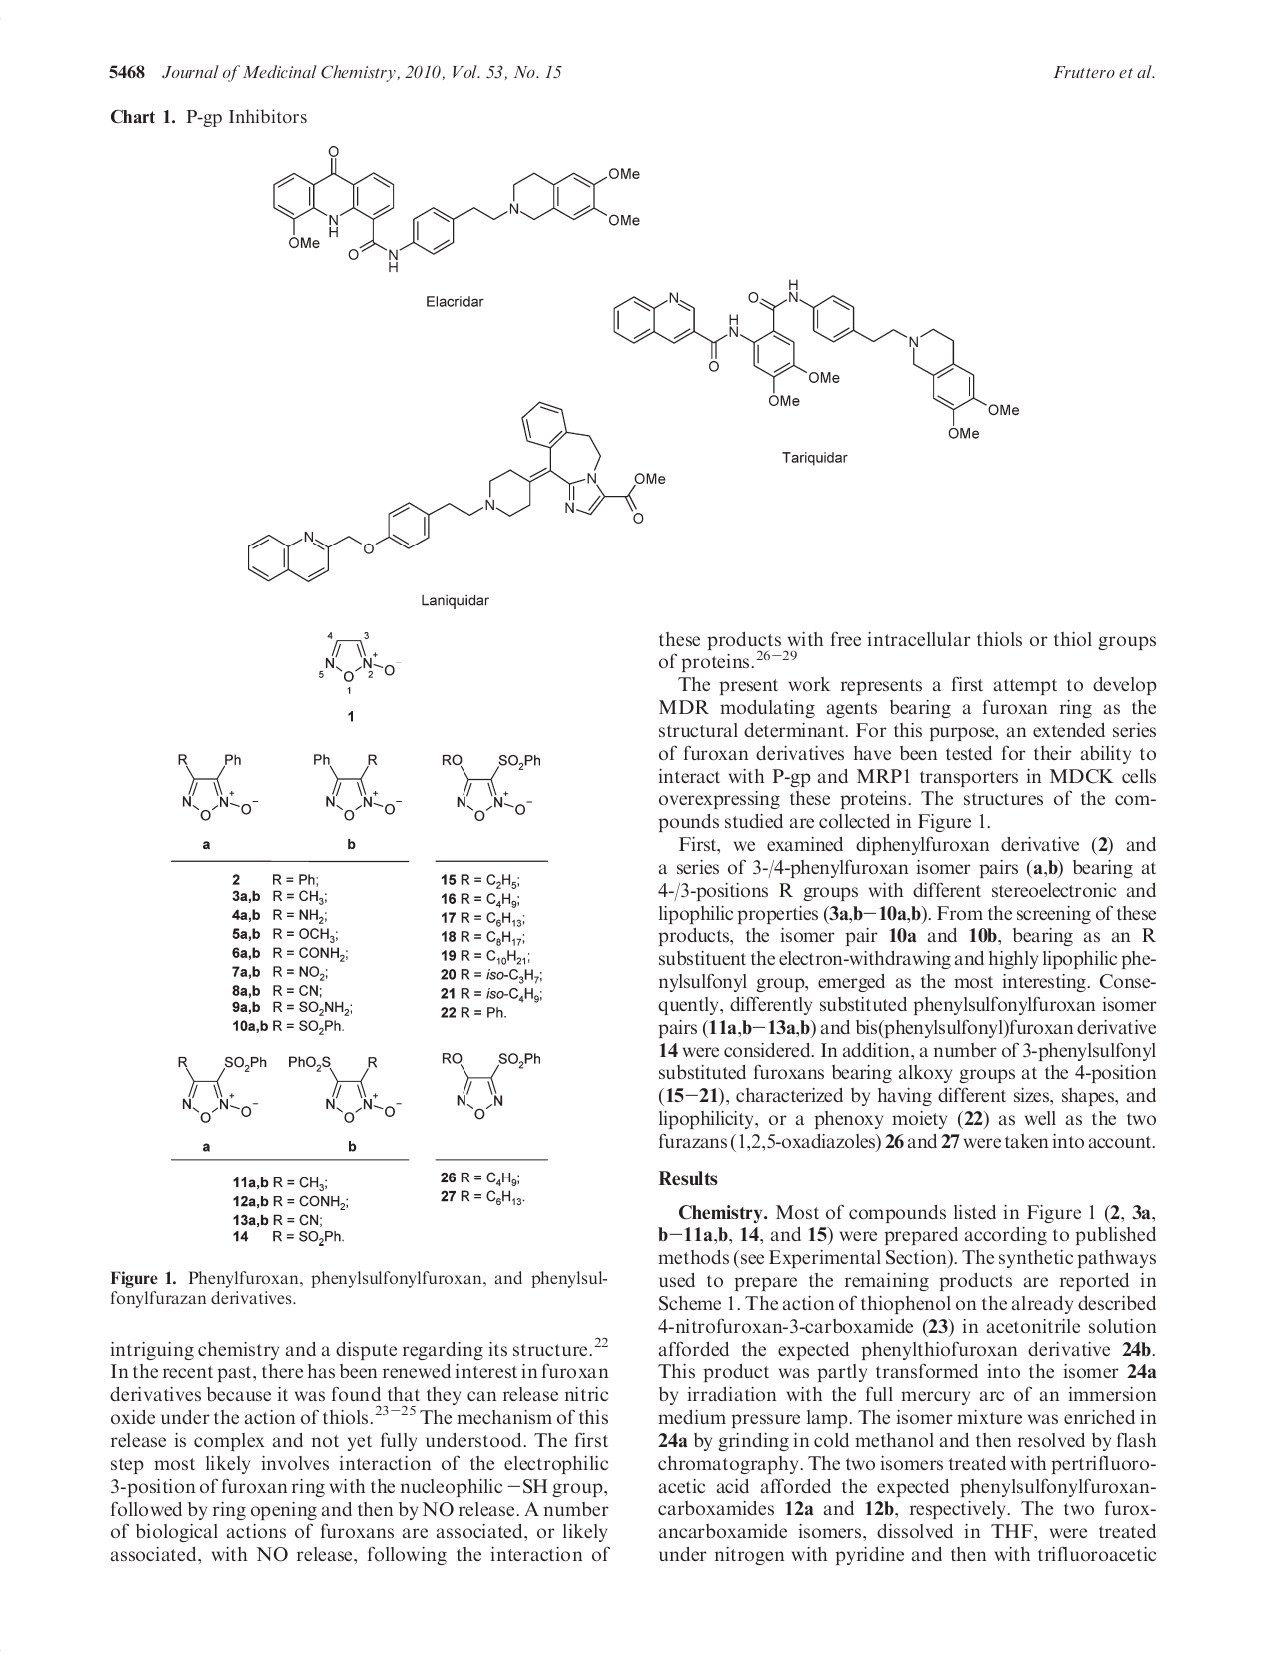exist_molecular: (239, 398, 672, 586), (606, 274, 1027, 442), (261, 142, 646, 277), (285, 1053, 420, 1130), (443, 739, 564, 825), (436, 1037, 553, 1112), (169, 1051, 279, 1125), (165, 743, 265, 825), (309, 747, 406, 829), (309, 622, 411, 697)
